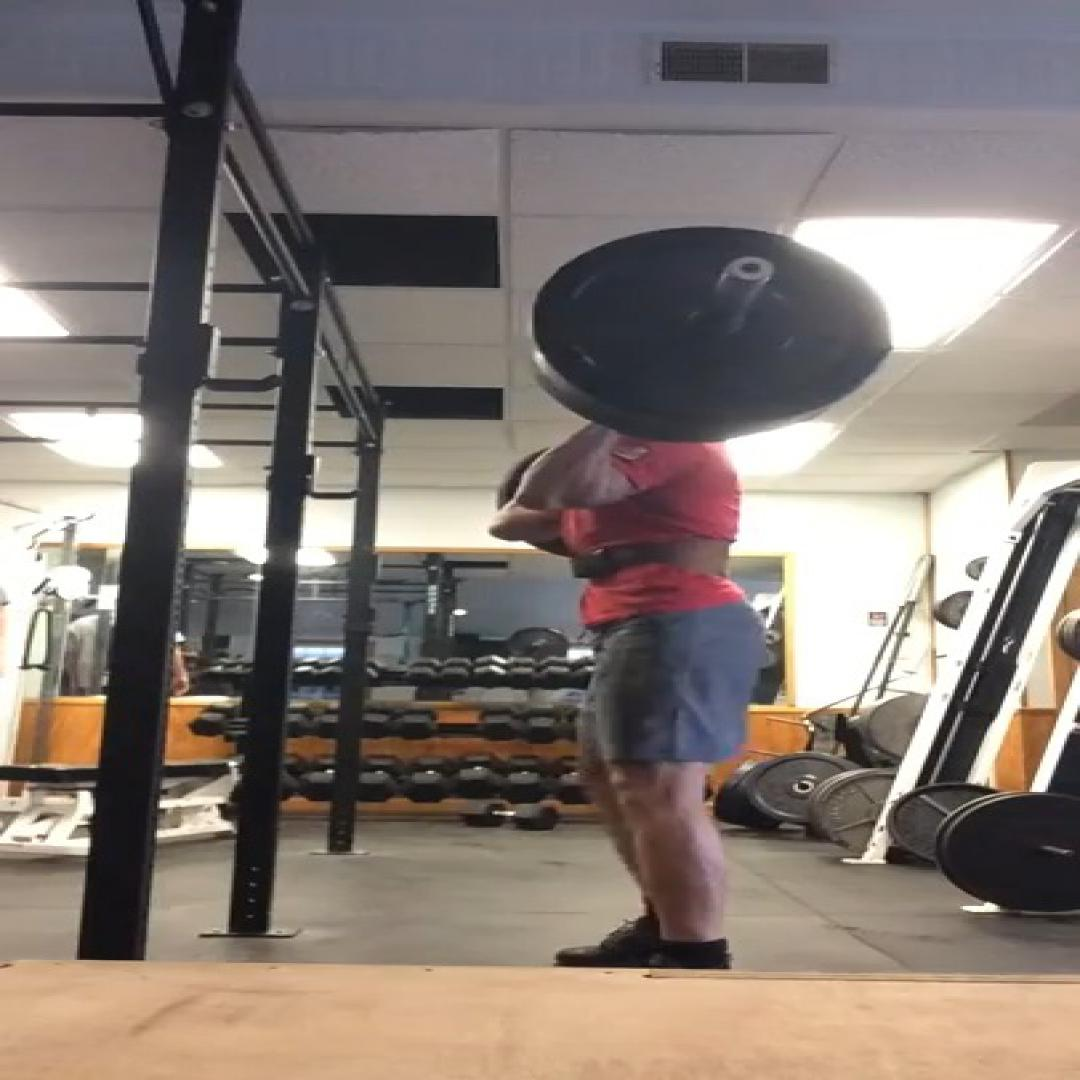Bar: (729, 258, 774, 282)
Barbell: (529, 227, 888, 417)
